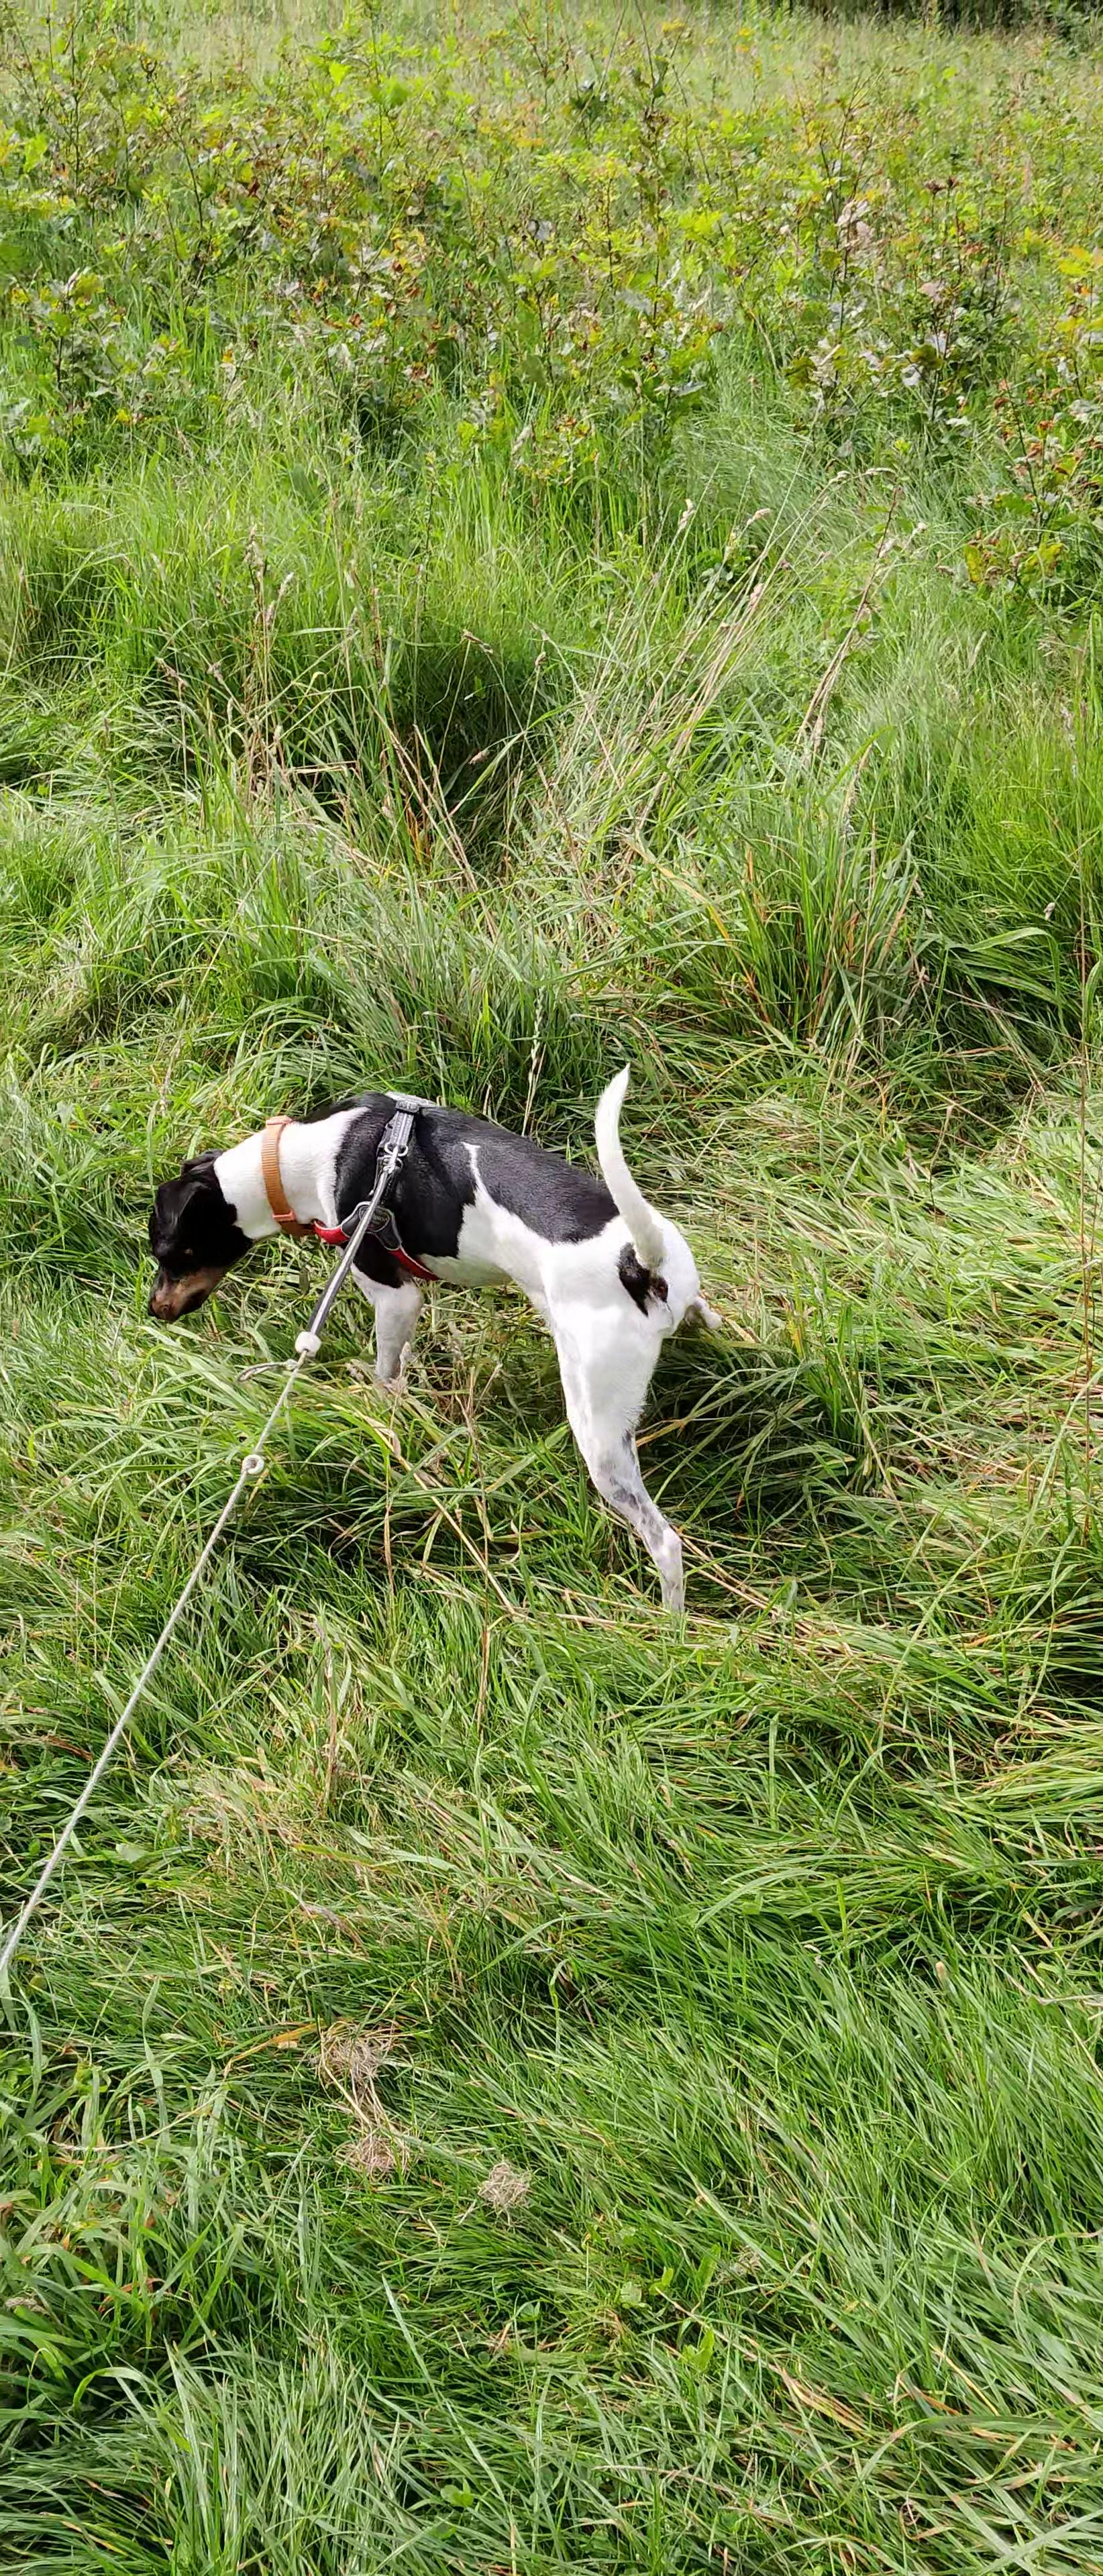Dog: (122, 1002, 738, 1649)
